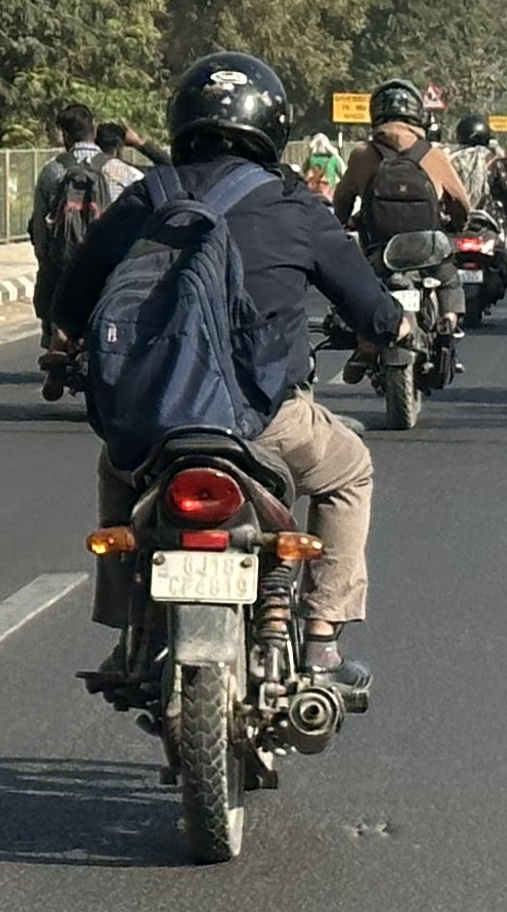BikeWithRider: (51, 49, 424, 861), (327, 74, 472, 429), (28, 93, 159, 400), (442, 108, 507, 334)
Helmet: (159, 53, 294, 169), (361, 76, 430, 134), (453, 109, 492, 149)
NoHelmet: (51, 96, 102, 147)
